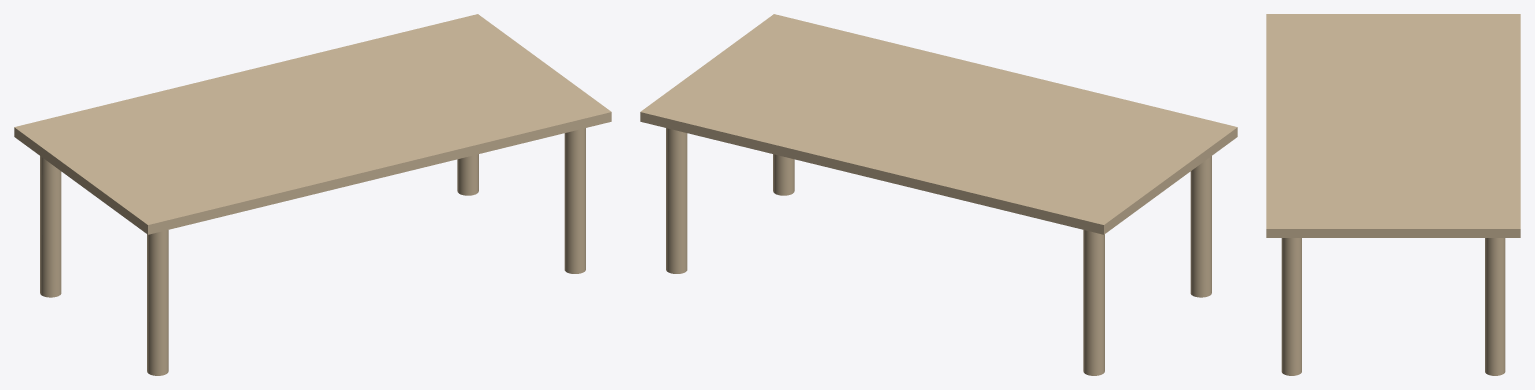
Rendered from newport-100600-g2-proxy.glb.
3 renders of one model, left to right at view 1: azimuth 30°, elevation 25°; view 2: azimuth 150°, elevation 25°; view 3: azimuth 270°, elevation 25°, orthographic. The views are drawn at different scales.
Parts seen in each view (by area): view 1: proxy_body, leg (×4); view 2: proxy_body, leg (×4); view 3: proxy_body, leg (×2).
Boxes of the visible parts, x1=… form: proxy_body: x1=14, y1=14, x2=611, y2=234; leg (×4): x1=40, y1=128, x2=585, y2=375; proxy_body: x1=640, y1=14, x2=1237, y2=234; leg (×4): x1=666, y1=128, x2=1211, y2=375; proxy_body: x1=1266, y1=14, x2=1520, y2=237; leg (×2): x1=1281, y1=238, x2=1505, y2=375.
Bounding box in the file's own units: 1.2 × 0.4 × 0.6.
